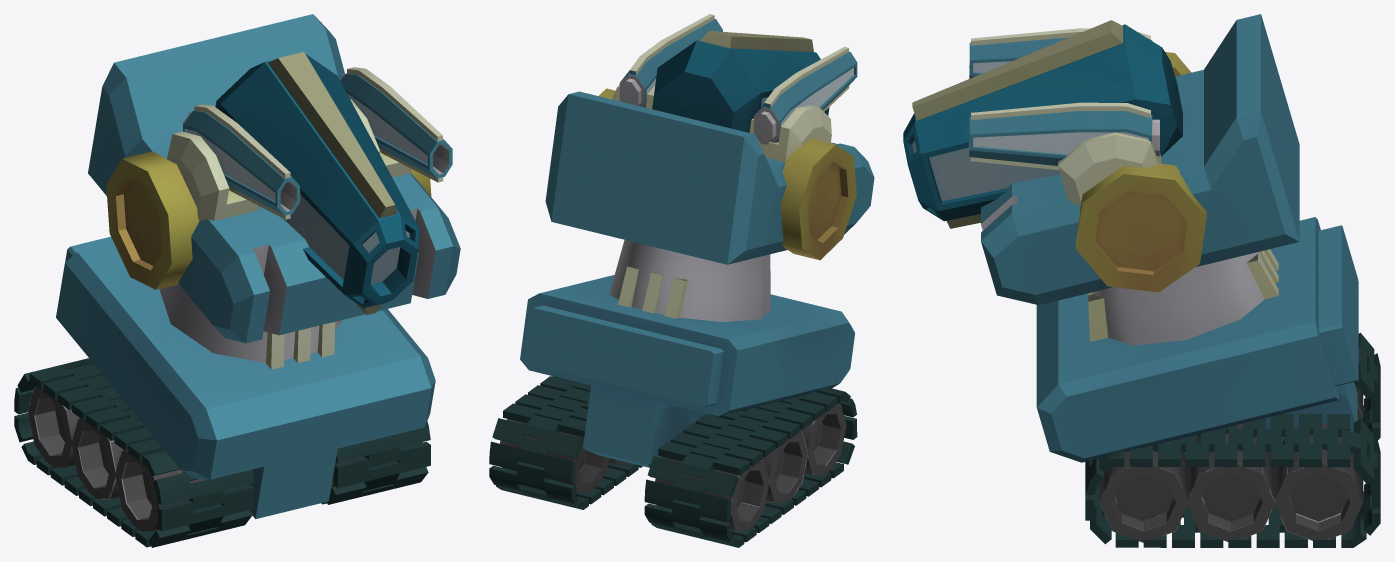
The model's file is player_move_1_upgrade0.obj.
The picture shows the model from 3 angles, left to right: view 1: azimuth 30°, elevation 25°; view 2: azimuth 150°, elevation 25°; view 3: azimuth 270°, elevation 25°; orthographic projection. The views are drawn at different scales.
Parts seen in each view (by area): view 1: Object004, Box038, Object012, Object011, Box042; view 2: Object004, Box038, Box042, Object011, Object012; view 3: Object004, Object011, Box042, Object012, Box038.
Part boxes in pixels (x1,y1,x2,y2): Object004: [56, 14, 460, 519]; Box038: [14, 358, 254, 547]; Object012: [183, 67, 452, 219]; Object011: [28, 386, 422, 531]; Box042: [321, 421, 430, 504]; Object004: [520, 31, 874, 467]; Box038: [644, 387, 857, 547]; Box042: [489, 376, 642, 509]; Object011: [500, 403, 846, 531]; Object012: [619, 14, 857, 144]; Object004: [903, 14, 1358, 462]; Object011: [1099, 384, 1363, 542]; Box042: [1085, 414, 1380, 547]; Object012: [969, 28, 1159, 170]; Box038: [1354, 332, 1380, 440].
Bounding box in the file's own units: 110 × 180 × 169.
Materials: 4 (2 with a texture image).
